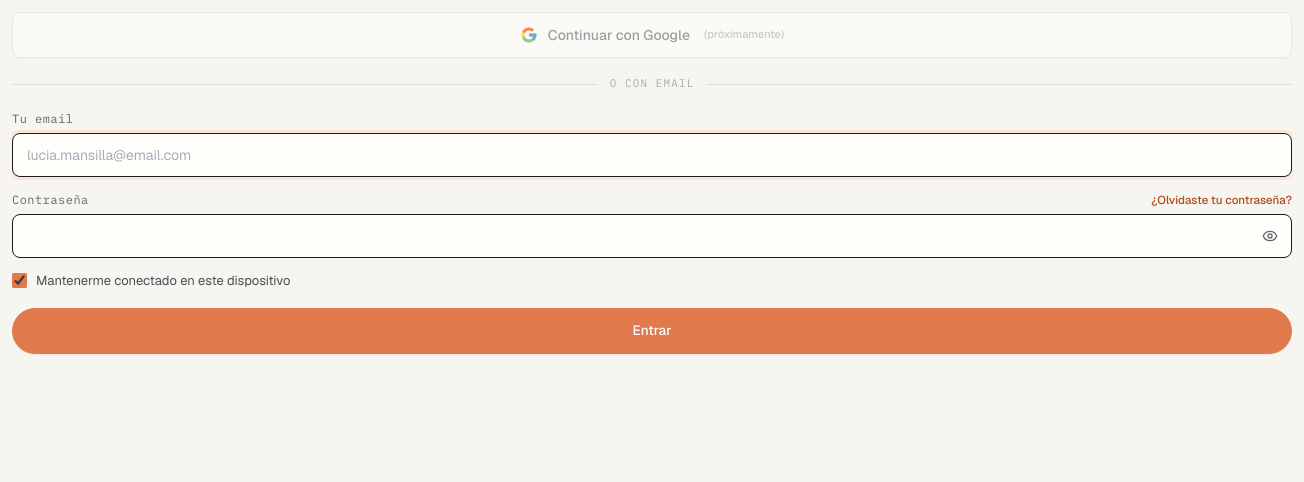
SignInForm › conserva el mail escrito después de un intento fallido (el form no controlado se resetea)
Step 1. Type "lucia@test.com" into the field labelled "Tu email" → x=652, y=155, box x1=12 y1=133 x2=1292 y2=177
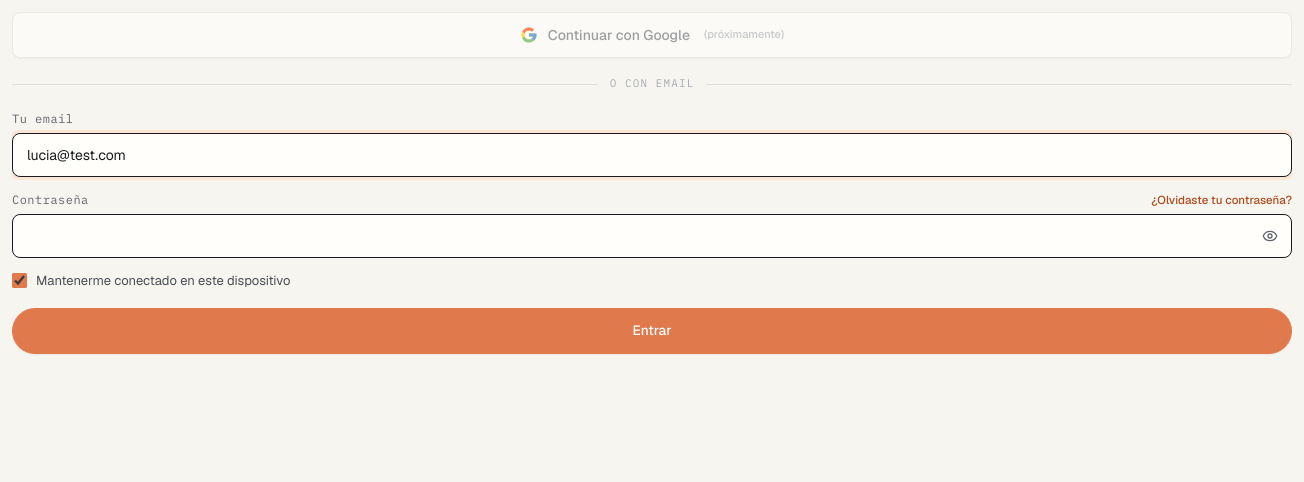
Step 2. Type "doce-chars-1" into the password field labelled "Contraseña" → x=652, y=236, box x1=12 y1=214 x2=1292 y2=258
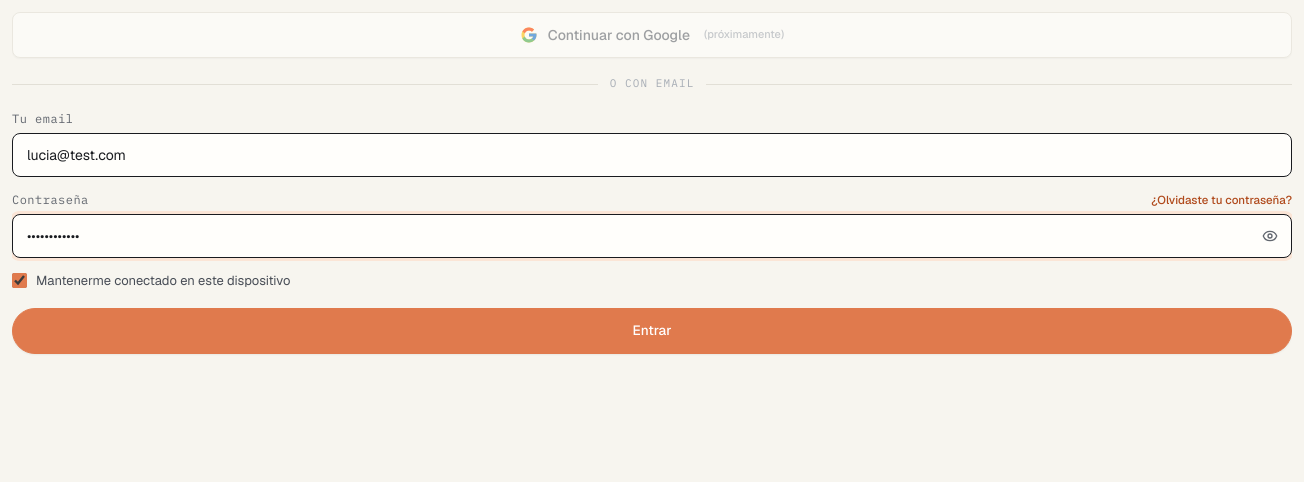
Step 3. Click the button "Entrar" → x=652, y=331, box x1=12 y1=308 x2=1292 y2=354
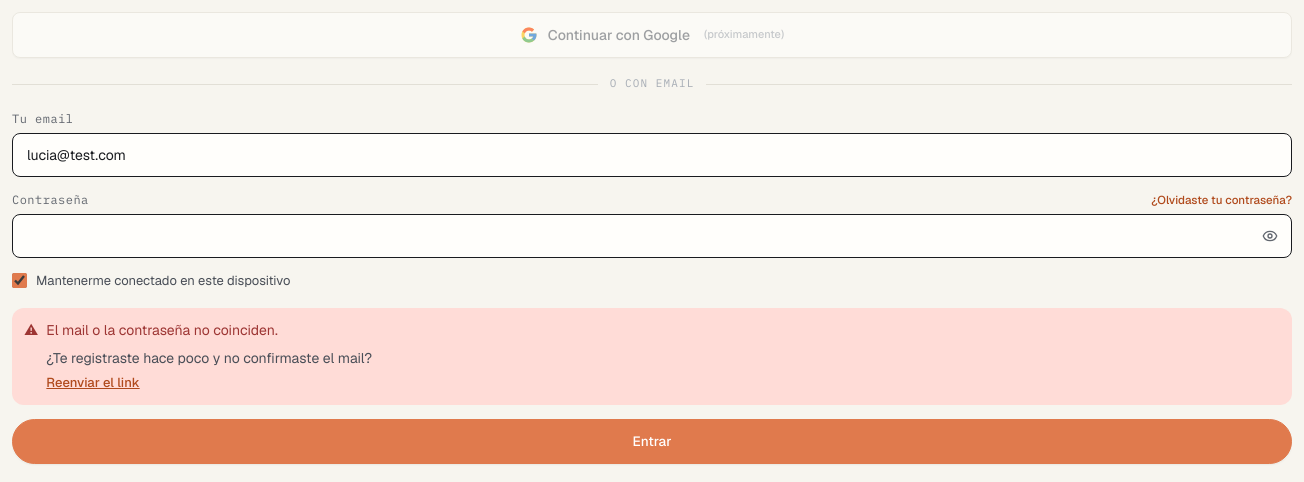
Expected: the message is shown, x1=12 y1=308 x2=1292 y2=405
